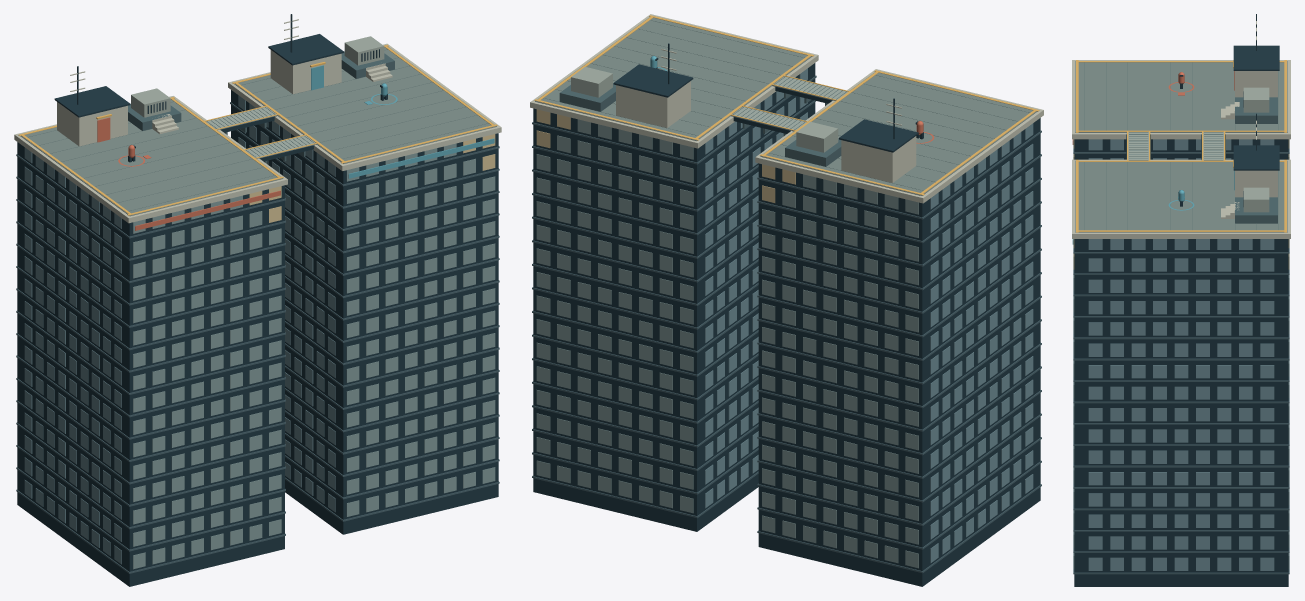
The model's file is twinspire.glb.
3 renders of one model, left to right at view 1: azimuth 30°, elevation 25°; view 2: azimuth 150°, elevation 25°; view 3: azimuth 270°, elevation 25°, orthographic. The views are drawn at different scales.
Parts seen in each view (by area): view 1: red tower, blue tower, Roof membrane (×2), Facade floor band (×18), Roof slab (×2), Access penthouse (×2), Penthouse cap (×2), HVAC housing (×2), Tower identity stripe (×2), Skybridge grating (×2); view 2: red tower, blue tower, Roof membrane (×2), Facade floor band (×18), Roof slab (×2), Access penthouse (×2), Penthouse cap (×2), HVAC housing (×2), Raised service deck (×2), Skybridge grating (×2); view 3: blue tower, Roof membrane (×2), Facade floor band (×16), Roof slab (×2), Penthouse cap (×2), Access penthouse (×2), red tower, Raised service deck (×2), Open edge caution (×4), HVAC housing (×2), Skybridge grating (×2).
Part boxes in pixels (<box>): red tower: <box>17,142,284,586</box>; blue tower: <box>231,90,498,534</box>; Roof membrane (×2): <box>20,46,496,216</box>; Facade floor band (×18): <box>16,102,499,573</box>; Roof slab (×2): <box>14,43,501,223</box>; Access penthouse (×2): <box>57,50,341,146</box>; Penthouse cap (×2): <box>54,34,343,117</box>; HVAC housing (×2): <box>131,36,384,117</box>; Tower identity stripe (×2): <box>135,138,494,230</box>; Skybridge grating (×2): <box>206,106,316,158</box>; red tower: <box>758,118,1040,586</box>; blue tower: <box>533,63,815,531</box>; Roof membrane (×2): <box>535,17,1037,195</box>; Facade floor band (×18): <box>532,75,1041,573</box>; Roof slab (×2): <box>530,14,1043,203</box>; Access penthouse (×2): <box>616,81,916,182</box>; Penthouse cap (×2): <box>613,64,918,152</box>; HVAC housing (×2): <box>571,67,838,152</box>; Raised service deck (×2): <box>559,83,841,166</box>; Skybridge grating (×2): <box>731,76,847,131</box>; blue tower: <box>1074,239,1288,586</box>; Roof membrane (×2): <box>1075,61,1287,232</box>; Facade floor band (×16): <box>1073,239,1289,574</box>; Roof slab (×2): <box>1072,60,1290,238</box>; Penthouse cap (×2): <box>1233,45,1279,170</box>; Access penthouse (×2): <box>1235,71,1277,197</box>; red tower: <box>1074,139,1288,159</box>; Raised service deck (×2): <box>1235,97,1277,223</box>; Open edge caution (×4): <box>1076,61,1286,231</box>; HVAC housing (×2): <box>1243,87,1269,212</box>; Skybridge grating (×2): <box>1128,132,1223,160</box>.
Bounding box in the file's own units: 38.4 × 43.3 × 20.4.
